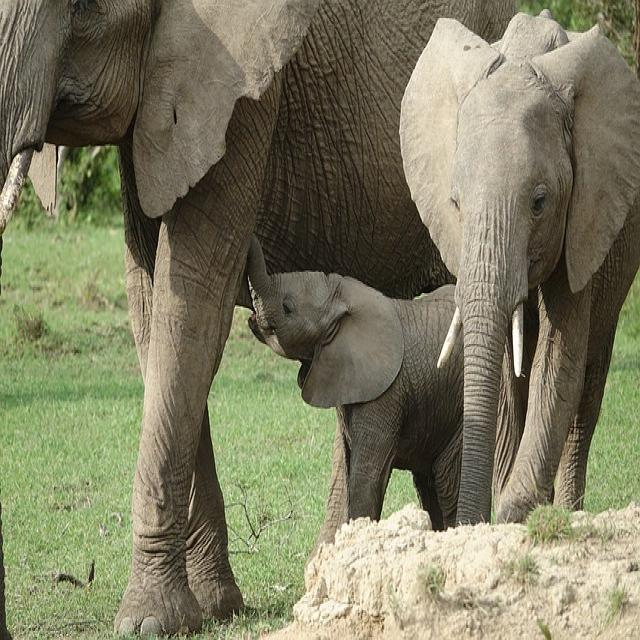elephant: (0, 3, 514, 633), (401, 13, 640, 523), (248, 240, 462, 529)
